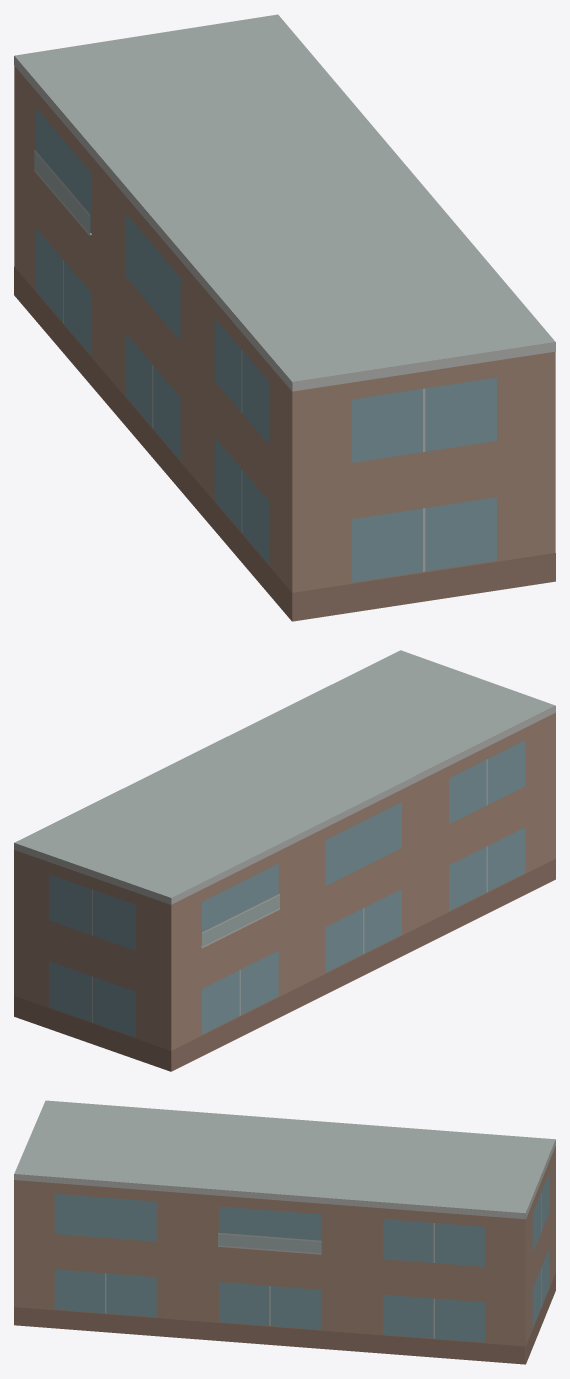
Rendered from survey-upis-32517200.glb.
The picture shows the model from 3 angles, top to bottom: view 1: azimuth 30°, elevation 25°; view 2: azimuth 150°, elevation 25°; view 3: azimuth 270°, elevation 25°; orthographic projection. The views are drawn at different scales.
Visible parts, largest first — view 1: survey-upis-32517200.tmp; view 2: survey-upis-32517200.tmp; view 3: survey-upis-32517200.tmp.
Boxes of the visible parts, bbox=[...] form: survey-upis-32517200.tmp: bbox=[14, 14, 555, 621]; survey-upis-32517200.tmp: bbox=[14, 650, 555, 1071]; survey-upis-32517200.tmp: bbox=[14, 1100, 555, 1364].
Size of the model in its own units: 9.77 by 6.1 by 19.81.
